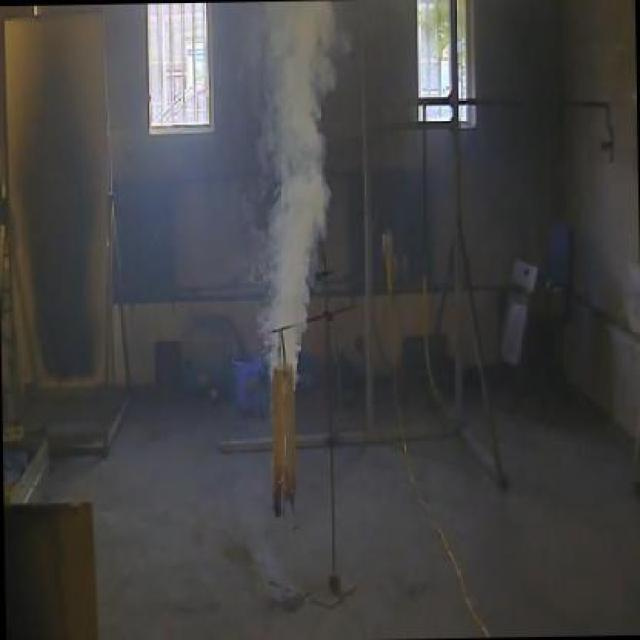fire: (238, 0, 358, 329)
